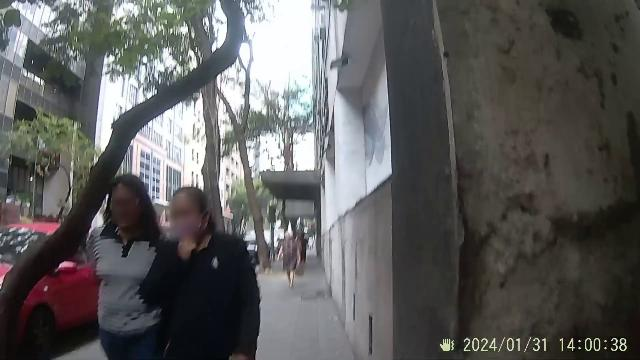tree: (241, 34, 267, 306), (190, 92, 233, 214)
